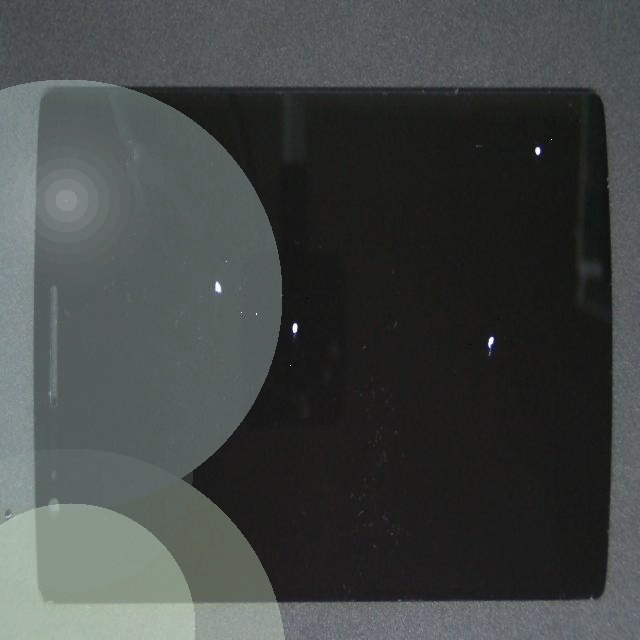stain: (219, 144, 640, 539), (179, 125, 428, 461), (239, 63, 640, 260), (106, 159, 322, 478)
